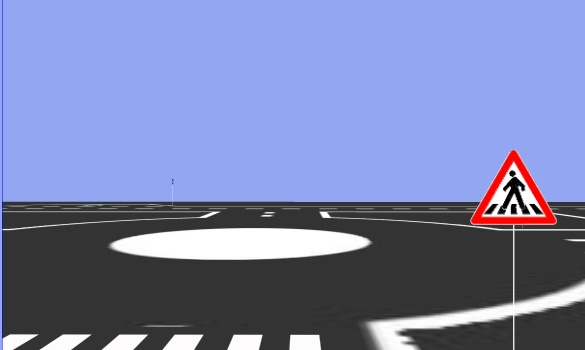yaya_gecidi: (453, 146, 569, 230)
